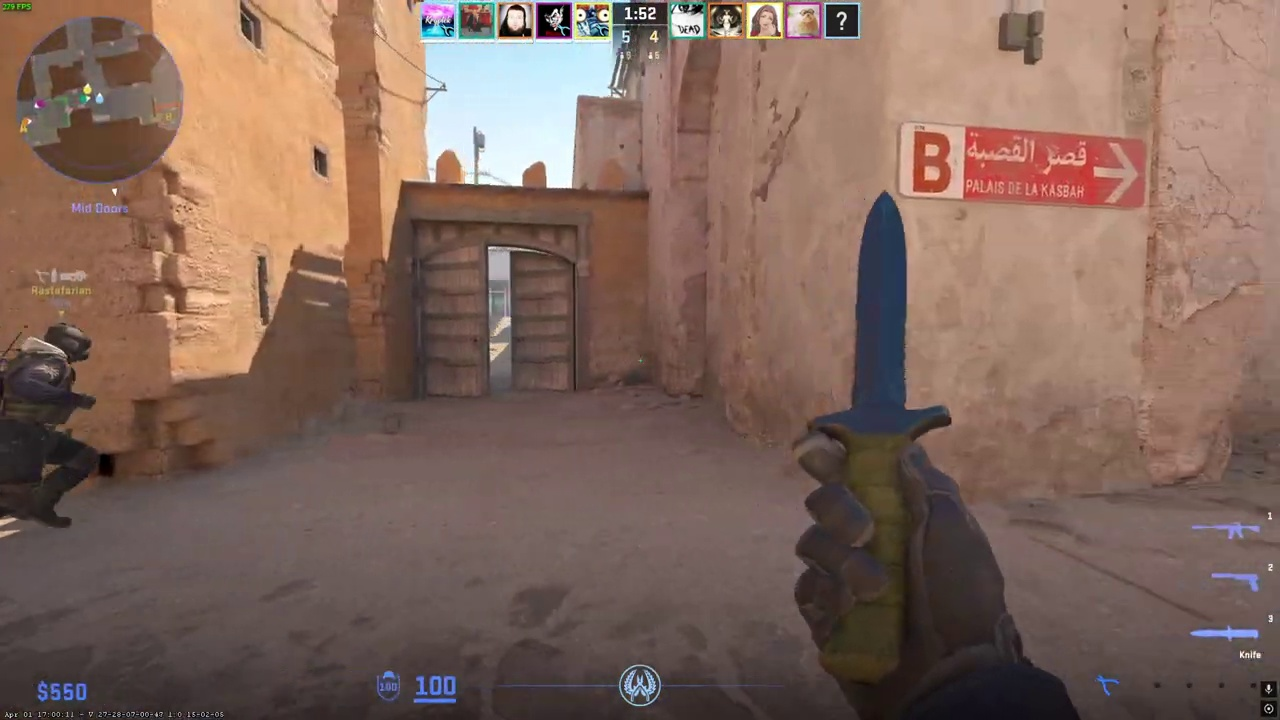CT: (0, 321, 98, 536)
